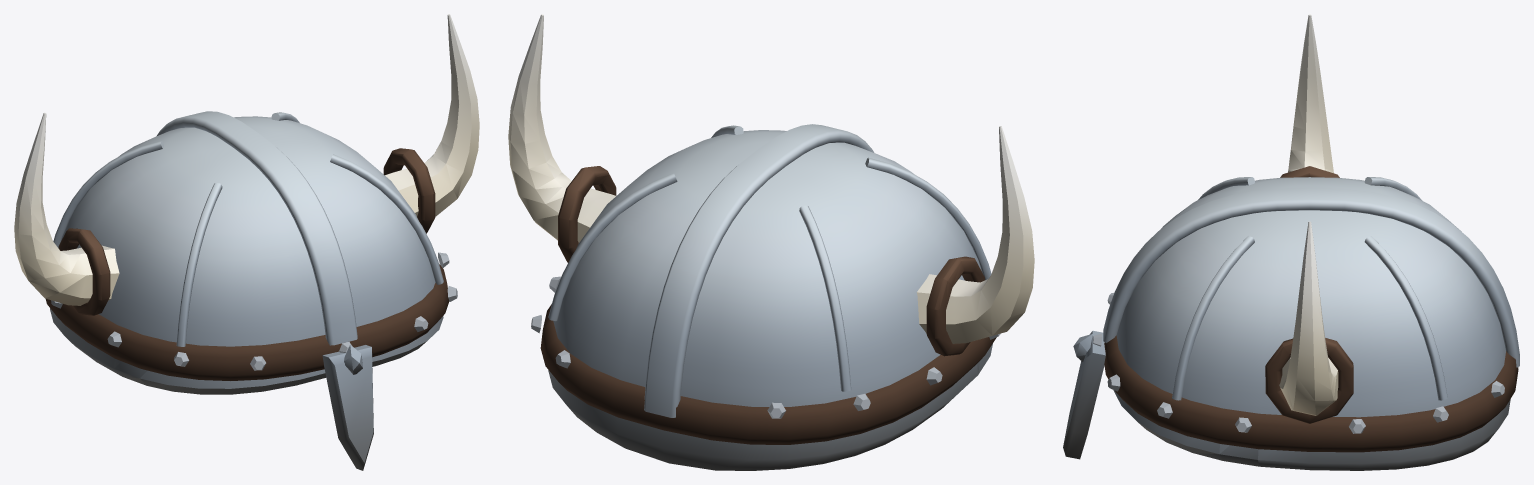
The model's file is helmet_heavy.glb.
3 renders of one model, left to right at view 1: azimuth 30°, elevation 25°; view 2: azimuth 150°, elevation 25°; view 3: azimuth 270°, elevation 25°, orthographic. The views are drawn at different scales.
Parts seen in each view (by area): view 1: Item; view 2: Item; view 3: Item.
Part boxes in pixels (x1,y1,x2,y2): Item: (14,14,479,470); Item: (508,14,1034,470); Item: (1063,14,1519,470).
Bounding box in the file's own units: 1.72 × 1.16 × 1.41.
3 materials, 3 textured.
